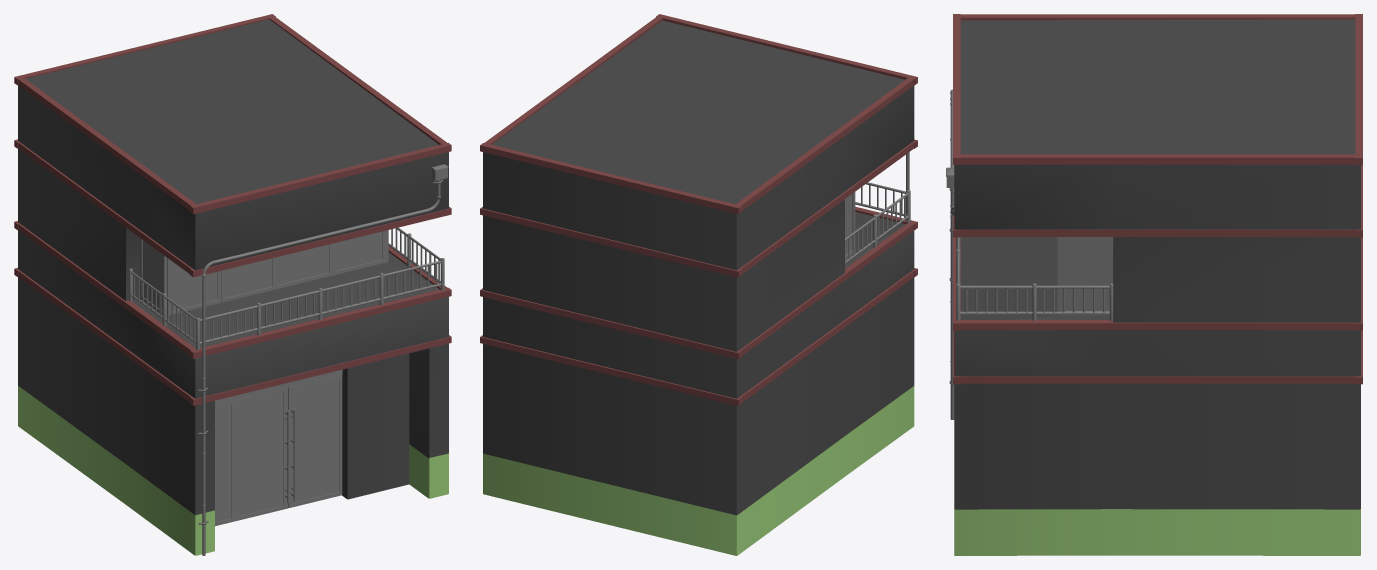
The model's file is SM_building_restaurant.fbx.
3 renders of one model, left to right at view 1: azimuth 30°, elevation 25°; view 2: azimuth 150°, elevation 25°; view 3: azimuth 270°, elevation 25°, orthographic. The views are drawn at different scales.
Parts seen in each view (by area): view 1: Object1284783; view 2: Object1284783; view 3: Object1284783.
Part boxes in pixels (x1,y1,x2,y2): Object1284783: (14,14,451,555); Object1284783: (480,14,917,555); Object1284783: (946,14,1362,555).
Bounding box in the file's own units: 230 × 297 × 281.
